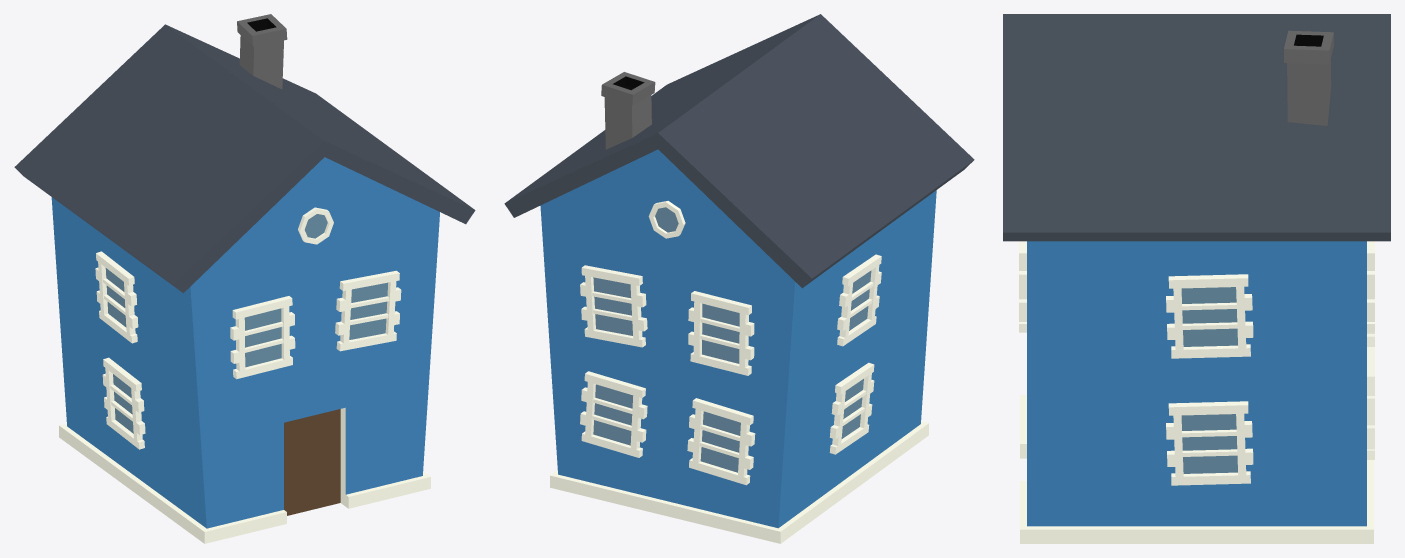
Rendered from house2.gltf.
3 views of the same model, side by side, from view 1: azimuth 30°, elevation 25°; view 2: azimuth 150°, elevation 25°; view 3: azimuth 270°, elevation 25° (orthographic). The views are drawn at different scales.
Parts seen in each view (by area): view 1: h2.001; view 2: h2.001; view 3: h2.001.
Boxes of the visible parts, x1,y1,x2,y2 form: h2.001: [14, 14, 475, 543]; h2.001: [504, 14, 974, 543]; h2.001: [1003, 14, 1390, 543].
Bounding box in the file's own units: 7.12 × 8.78 × 6.51.
1 material, 1 textured.
